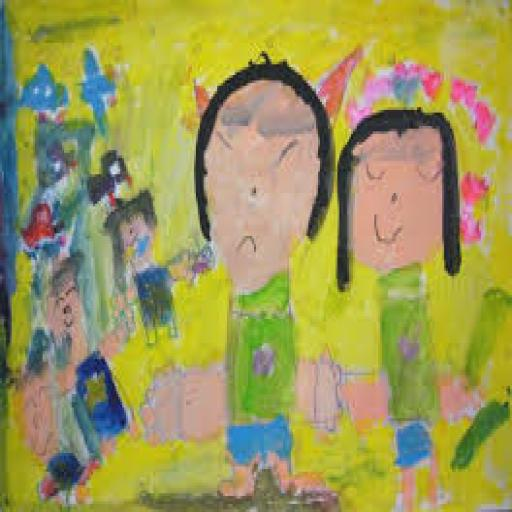person: (146, 59, 333, 495), (338, 110, 461, 509), (49, 244, 125, 485), (110, 176, 194, 349), (12, 336, 59, 510)
